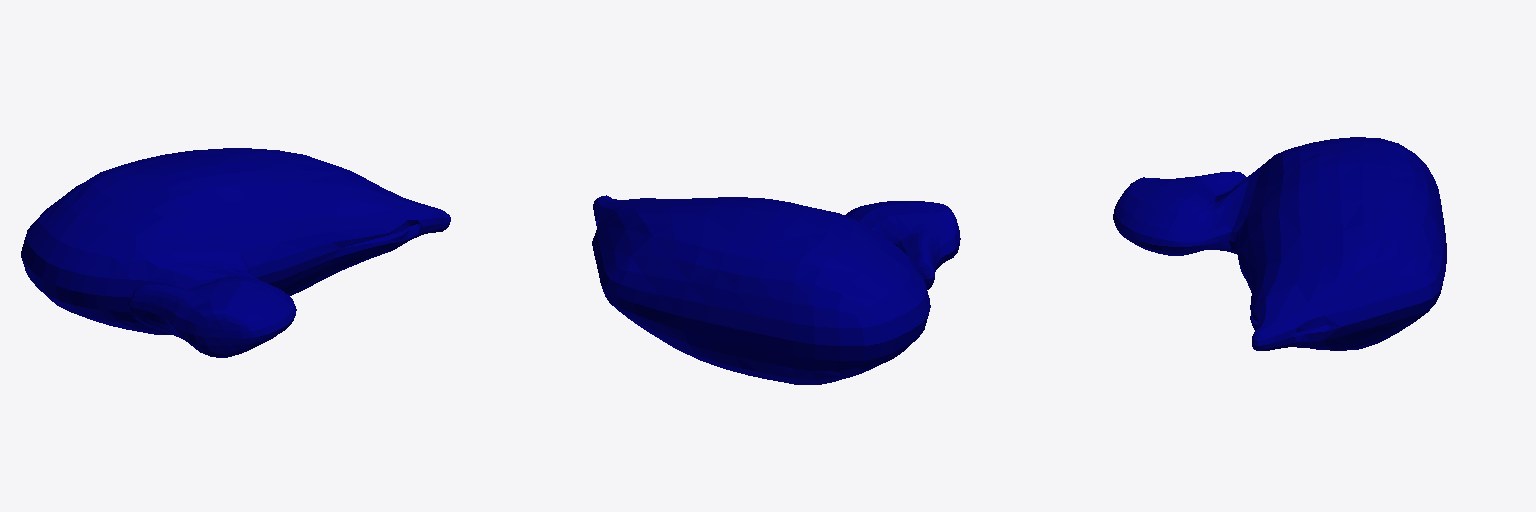
The model's file is Garden_ornament_obj.obj.
3 renders of one model, left to right at view 1: azimuth 30°, elevation 25°; view 2: azimuth 150°, elevation 25°; view 3: azimuth 270°, elevation 25°, orthographic.
Parts seen in each view (by area): view 1: Garden_ornament; view 2: Garden_ornament; view 3: Garden_ornament.
Boxes of the visible parts, x1=… form: Garden_ornament: x1=21, y1=148, x2=450, y2=357; Garden_ornament: x1=592, y1=195, x2=960, y2=384; Garden_ornament: x1=1113, y1=137, x2=1446, y2=350.
Size of the model in its own units: 0.7386 by 0.2852 by 0.58.